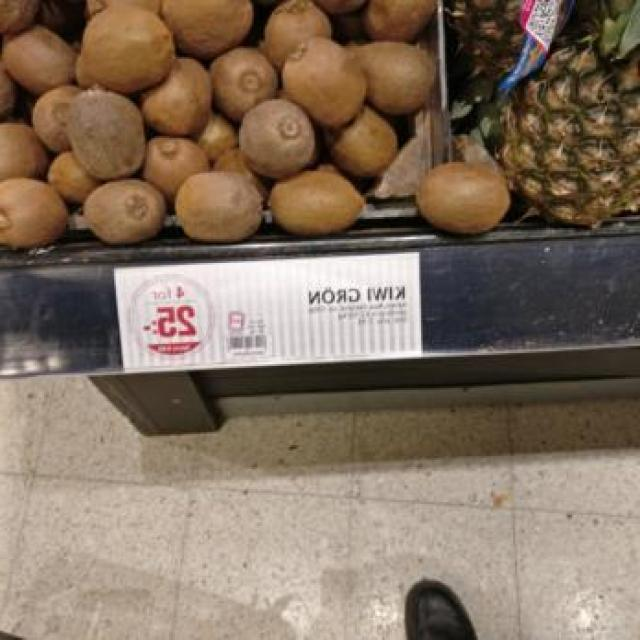kiwi: (79, 10, 175, 94), (282, 38, 362, 129), (66, 89, 144, 180), (270, 164, 365, 235), (348, 42, 434, 115), (419, 164, 510, 232), (175, 172, 261, 242), (239, 100, 314, 179), (161, 0, 252, 59), (82, 180, 164, 244), (144, 59, 211, 135), (2, 26, 75, 94), (210, 48, 275, 120), (264, 0, 331, 69), (142, 136, 209, 204), (332, 106, 396, 176), (0, 181, 66, 244), (32, 88, 78, 152), (365, 0, 436, 41), (48, 154, 100, 205), (216, 148, 265, 196), (198, 114, 238, 161), (86, 0, 161, 14), (1, 60, 15, 116), (315, 0, 366, 15)
